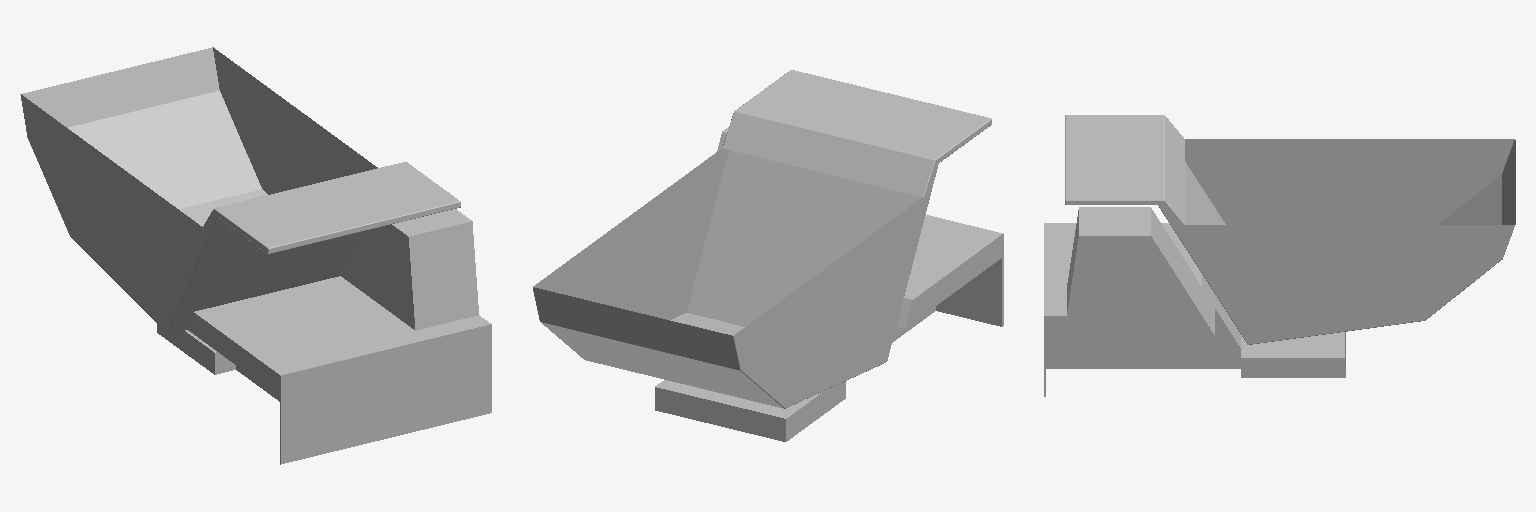
URDF robot description (Robot):
<?xml version="1.0" ?>
<robot name="Robot">
  <!--Generated by CROSS, a ROS Workbench for FreeCAD (https://github.com/galou/freecad.cross)-->
  <link name="Body003">
    <visual>
      <!--Body-->
      <origin xyz="0.0 0.0 0.0" rpy="0.0 -0.0 0.0"/>
      <geometry>
        <mesh filename="package://truck/meshes/haul_truck_Body.dae"/>
      </geometry>
    </visual>
    <collision>
      <!--Body-->
      <origin xyz="0.0 0.0 0.0" rpy="0.0 -0.0 0.0"/>
      <geometry>
        <mesh filename="package://truck/meshes/haul_truck_Body.dae"/>
      </geometry>
    </collision>
    <inertial>
      <mass value="0.0"/>
      <origin xyz="0.0 0.0 0.0" rpy="0.0 -0.0 0.0"/>
      <inertia ixx="0.0" ixy="0.0" ixz="0.0" iyy="0.0" iyz="0.0" izz="0.0"/>
    </inertial>
  </link>
  <link name="Tray001">
    <visual>
      <!--Tray-->
      <origin xyz="0.0 0.0 0.0" rpy="0.0 -0.0 0.0"/>
      <geometry>
        <mesh filename="package://truck/meshes/haul_truck_Tray.dae"/>
      </geometry>
    </visual>
    <collision>
      <!--Tray-->
      <origin xyz="0.0 0.0 0.0" rpy="0.0 -0.0 0.0"/>
      <geometry>
        <mesh filename="package://truck/meshes/haul_truck_Tray.dae"/>
      </geometry>
    </collision>
    <inertial>
      <mass value="0.0"/>
      <origin xyz="0.0 0.0 0.0" rpy="0.0 -0.0 0.0"/>
      <inertia ixx="0.0" ixy="0.0" ixz="0.0" iyy="0.0" iyz="0.0" izz="0.0"/>
    </inertial>
  </link>
  <link name="Front right Wheel">
    <inertial>
      <mass value="0.0"/>
      <origin xyz="0.0 0.0 0.0" rpy="0.0 -0.0 0.0"/>
      <inertia ixx="0.0" ixy="0.0" ixz="0.0" iyy="0.0" iyz="0.0" izz="0.0"/>
    </inertial>
  </link>
  <link name="Front left wheel">
    <inertial>
      <mass value="0.0"/>
      <origin xyz="0.0 0.0 0.0" rpy="0.0 -0.0 0.0"/>
      <inertia ixx="0.0" ixy="0.0" ixz="0.0" iyy="0.0" iyz="0.0" izz="0.0"/>
    </inertial>
  </link>
  <joint name="body_tray_joint" type="fixed">
    <parent link="Body003"/>
    <child link="Front left wheel"/>
    <origin xyz="0.0 0.0 0.0" rpy="0.0 -0.0 0.0"/>
  </joint>
  <joint name="front_left_wheel_joint" type="revolute">
    <parent link="Body003"/>
    <child link="Front right Wheel"/>
    <origin xyz="0.0 0.0 0.0" rpy="0.0 -0.0 0.0"/>
    <axis xyz="0 0 1"/>
    <limit lower="0.0" upper="0.0" velocity="0.0" effort="0.0"/>
  </joint>
  <joint name="front_right_wheel_joint" type="revolute">
    <parent link="Body003"/>
    <child link="Tray001"/>
    <origin xyz="0.0 0.0 0.0" rpy="0.0 -0.0 0.0"/>
    <axis xyz="0 0 1"/>
    <limit lower="0.0" upper="0.0" velocity="0.0" effort="0.0"/>
  </joint>
</robot>

--- Facts derived from the render (not from the file) ---
The picture shows the robot from 3 angles, left to right: view 1: azimuth 30°, elevation 25°; view 2: azimuth 150°, elevation 25°; view 3: azimuth 270°, elevation 25°; orthographic projection.
Robot: Robot — 4 links, 3 joints (2 revolute, 1 fixed); root link Body003; default pose: all joints at 0.
Visible links, largest first — view 1: Tray001, Body003; view 2: Tray001, Body003; view 3: Tray001, Body003.
Link boxes in pixels (x1,y1,x2,y2): Tray001: (20, 47, 460, 334); Body003: (157, 209, 491, 464); Tray001: (533, 70, 991, 408); Body003: (655, 127, 1003, 441); Tray001: (1065, 115, 1515, 344); Body003: (1044, 207, 1345, 396).
Size in the robot's own frame: 4.98 by 10.57 by 4.67 metres.
Meshes: 2 distinct files referenced, 2 mesh visuals loaded (2 Collada DAE).